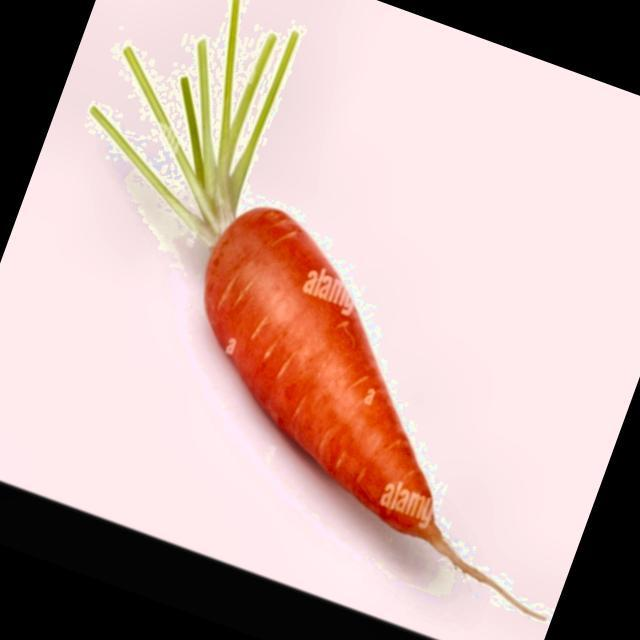carrot: (90, 1, 544, 618)
